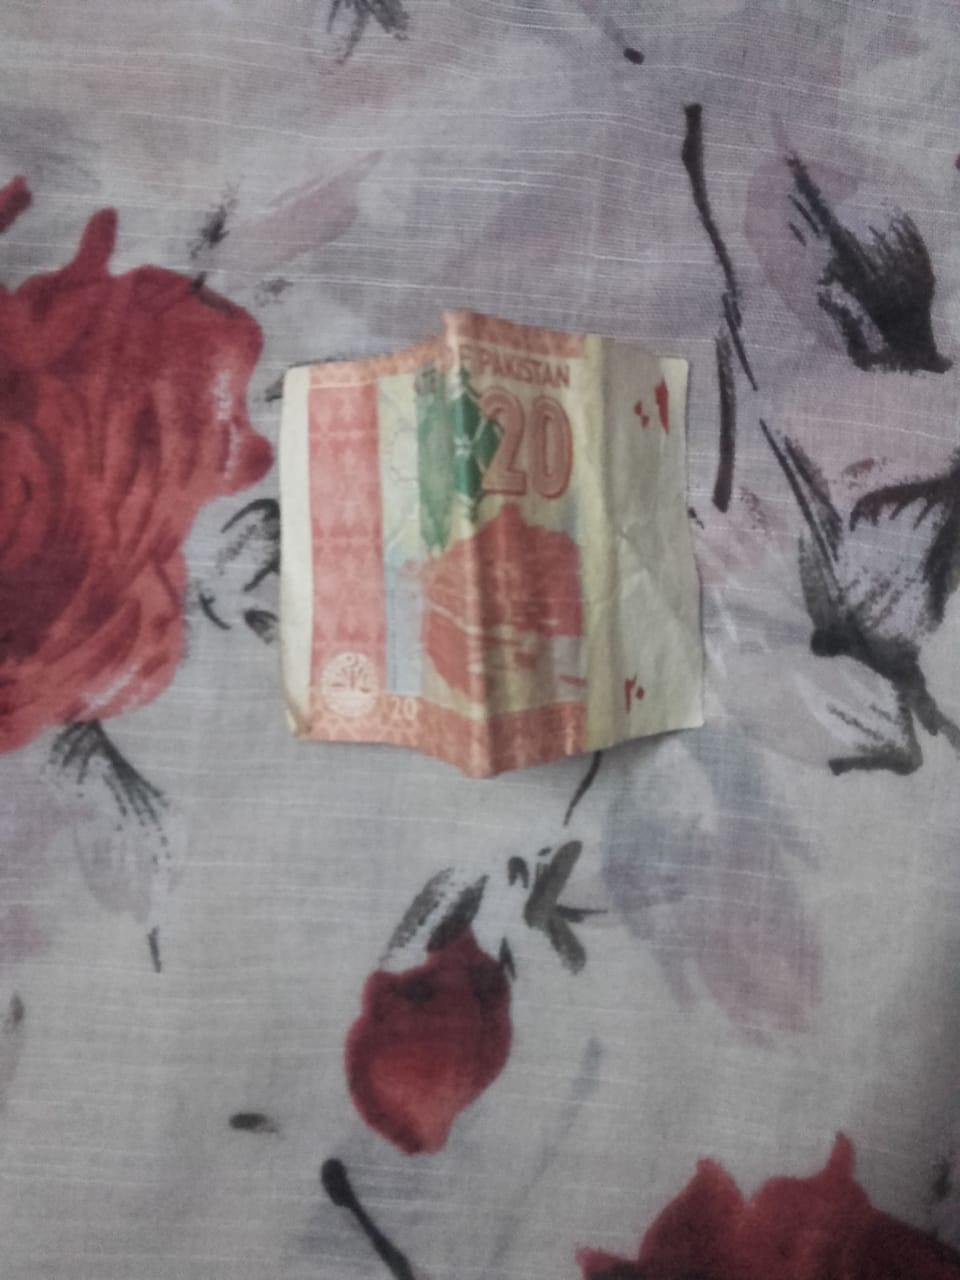20 rupee: (254, 319, 728, 790)
